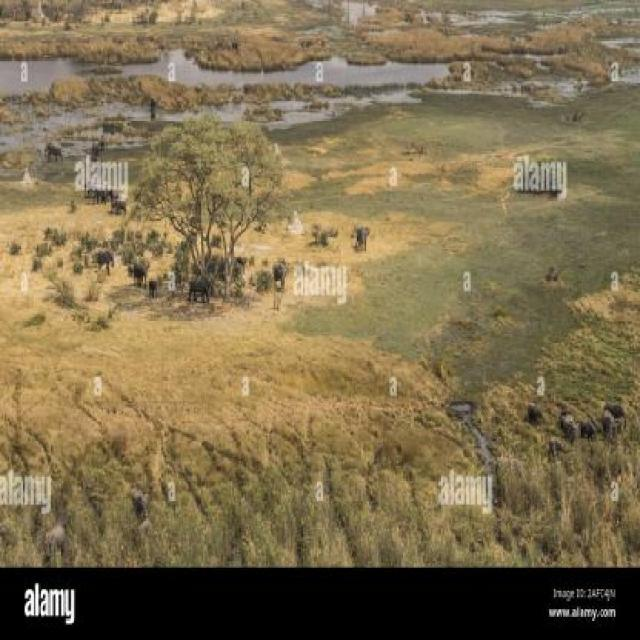elephant: (119, 514, 159, 552), (188, 268, 215, 307), (42, 526, 70, 560), (124, 480, 153, 508), (269, 257, 289, 295), (604, 396, 630, 424), (548, 430, 569, 462), (582, 411, 600, 447), (93, 244, 113, 276), (88, 182, 108, 212), (82, 174, 102, 200), (44, 138, 64, 164), (561, 408, 579, 435), (527, 400, 544, 426), (149, 276, 162, 310), (603, 408, 615, 442), (356, 222, 369, 248), (237, 248, 248, 278), (115, 197, 133, 215), (135, 260, 147, 286), (228, 38, 242, 56), (94, 153, 106, 173), (147, 93, 159, 113), (112, 181, 120, 205), (128, 261, 137, 281), (101, 133, 110, 153), (91, 137, 100, 154), (109, 195, 116, 212)
